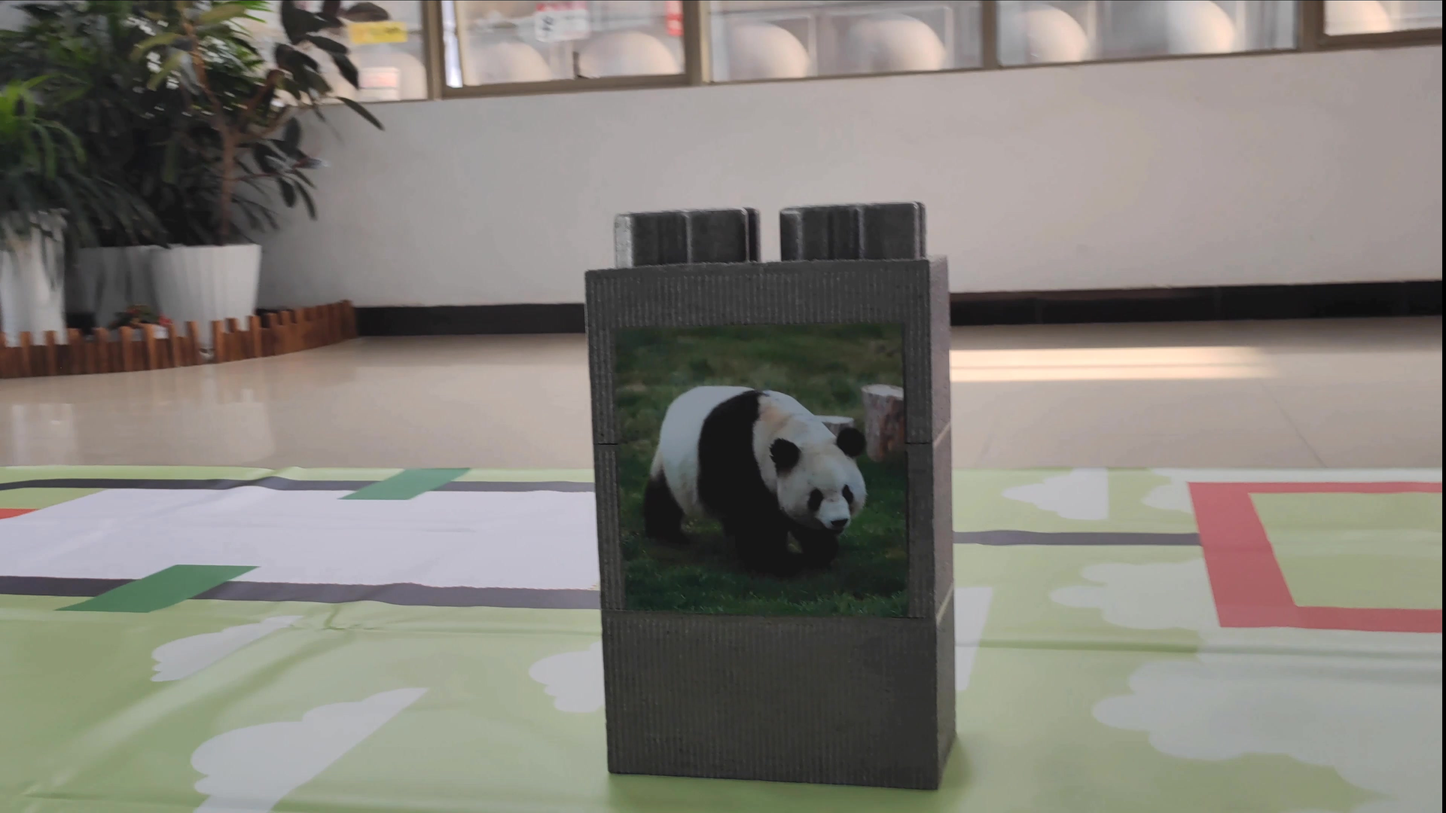panda: (633, 375, 896, 574)
